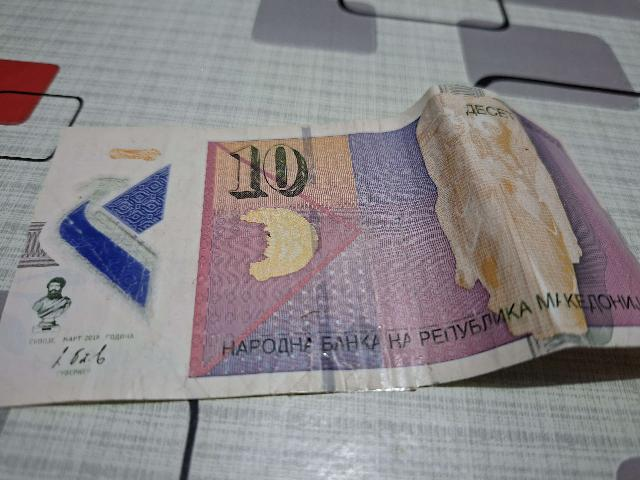note: (0, 82, 639, 409)
